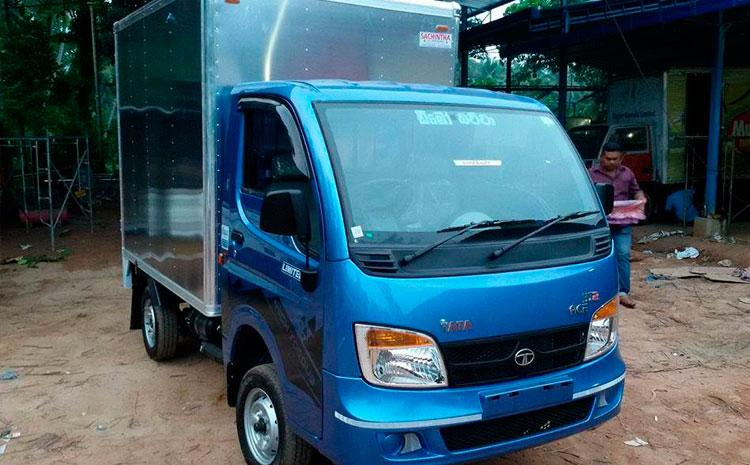truck: (112, 1, 625, 465)
